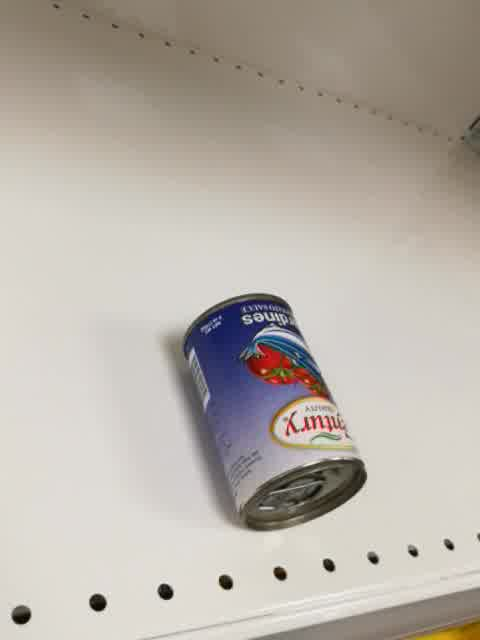sardine: (182, 292, 369, 533)
